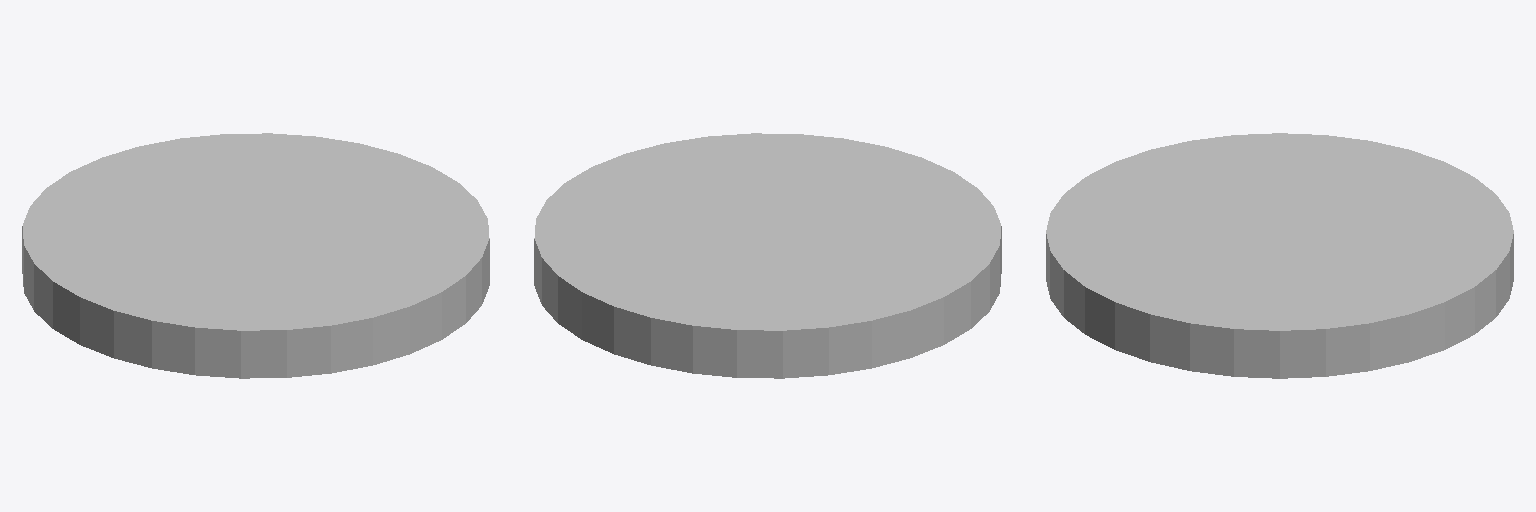
Rendered from drumsetV4_CrashSymbal_Hitbox.obj.
3 renders of one model, left to right at view 1: azimuth 30°, elevation 25°; view 2: azimuth 150°, elevation 25°; view 3: azimuth 270°, elevation 25°, orthographic.
Visible parts, largest first — view 1: drumsetV4_CrashSymbal_Hitbox_Cylinder.002; view 2: drumsetV4_CrashSymbal_Hitbox_Cylinder.002; view 3: drumsetV4_CrashSymbal_Hitbox_Cylinder.002.
Part boxes in pixels (left/top/right/bottom): drumsetV4_CrashSymbal_Hitbox_Cylinder.002: left=22, top=133, right=489, bottom=378; drumsetV4_CrashSymbal_Hitbox_Cylinder.002: left=534, top=133, right=1001, bottom=378; drumsetV4_CrashSymbal_Hitbox_Cylinder.002: left=1046, top=133, right=1513, bottom=378.
Size of the model in its own units: 1.29 by 0.1459 by 1.29.